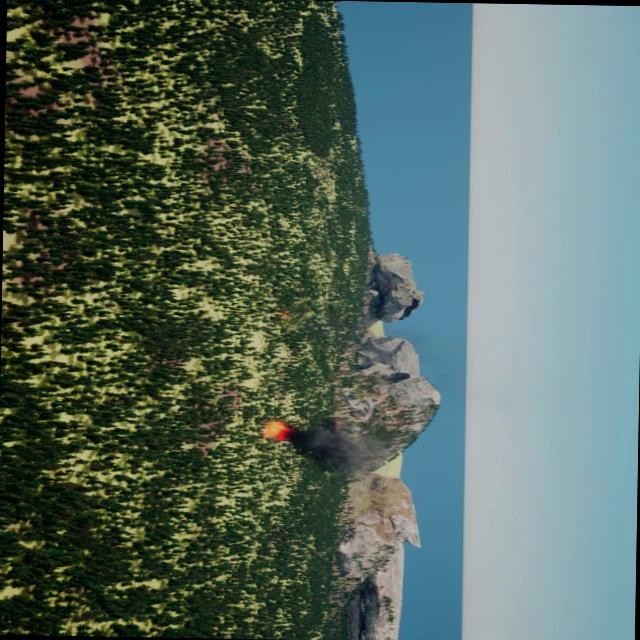fire: (263, 418, 291, 442)
smoke: (296, 424, 386, 474)
